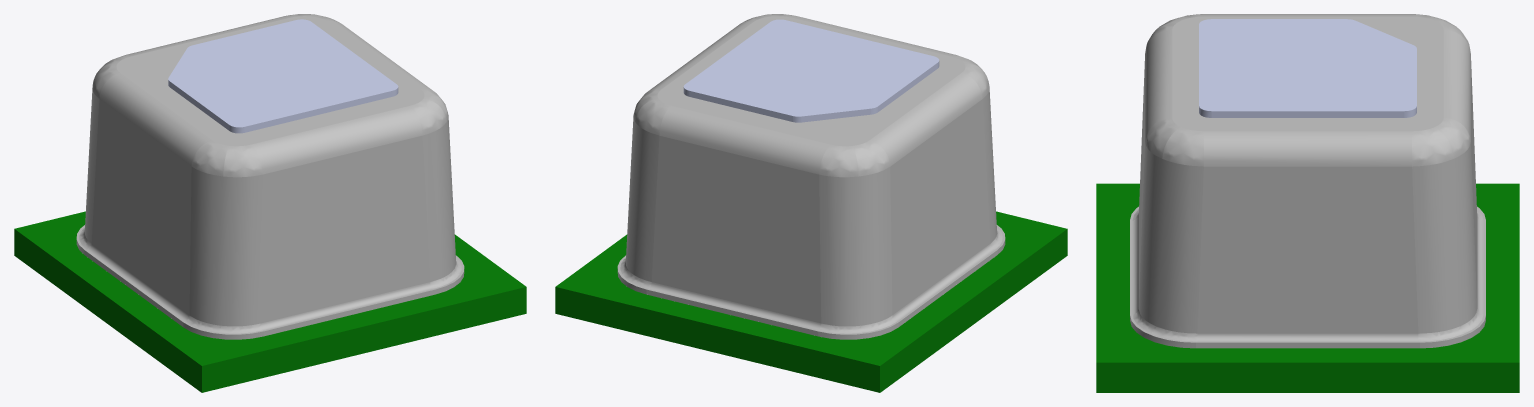
The model's file is sfe-scd4x.glb.
3 renders of one model, left to right at view 1: azimuth 30°, elevation 25°; view 2: azimuth 150°, elevation 25°; view 3: azimuth 270°, elevation 25°, orthographic. The views are drawn at different scales.
Parts seen in each view (by area): view 1: 0.5_0.5_0.5_0.85, 0_0.25_0_0, 0.5833333333333334_0.6666666666666666_0.8333333333333334_0; view 2: 0.5_0.5_0.5_0.85, 0_0.25_0_0, 0.5833333333333334_0.6666666666666666_0.8333333333333334_0; view 3: 0.5_0.5_0.5_0.85, 0_0.25_0_0, 0.5833333333333334_0.6666666666666666_0.8333333333333334_0.
Part boxes in pixels (bbox=[...]): 0.5_0.5_0.5_0.85: bbox=[76, 14, 464, 339]; 0_0.25_0_0: bbox=[14, 211, 526, 392]; 0.5833333333333334_0.6666666666666666_0.8333333333333334_0: bbox=[168, 19, 398, 133]; 0.5_0.5_0.5_0.85: bbox=[617, 14, 1005, 339]; 0_0.25_0_0: bbox=[555, 211, 1067, 392]; 0.5833333333333334_0.6666666666666666_0.8333333333333334_0: bbox=[683, 19, 939, 122]; 0.5_0.5_0.5_0.85: bbox=[1130, 14, 1485, 348]; 0_0.25_0_0: bbox=[1096, 183, 1519, 392]; 0.5833333333333334_0.6666666666666666_0.8333333333333334_0: bbox=[1199, 19, 1416, 117].
Bounding box in the file's own units: 1.01 × 0.6309 × 1.01.
